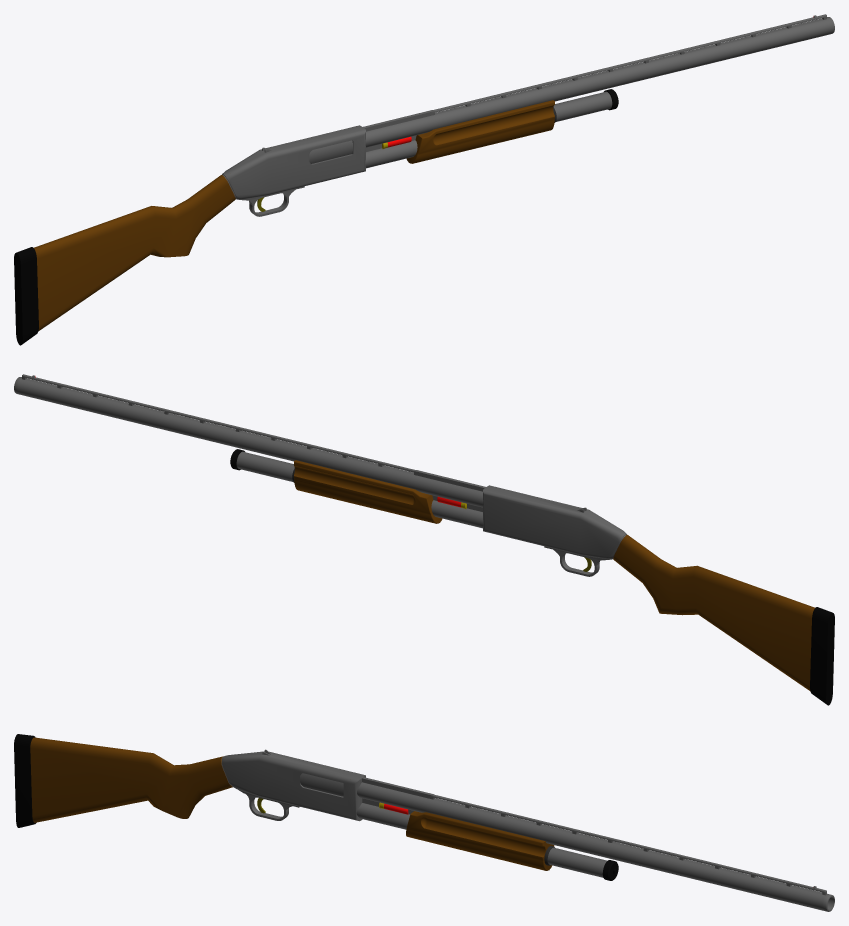
The model's file is MOSSBERG_500_FULL_1.glb.
3 renders of one model, top to bottom at view 1: azimuth 30°, elevation 25°; view 2: azimuth 150°, elevation 25°; view 3: azimuth 330°, elevation 25°, orthographic.
Visible parts, largest first — view 1: Body, Barrel, Pump, Bottom Barrel, Handle; view 2: Body, Barrel, Pump, Bottom Barrel; view 3: Body, Barrel, Pump, Bottom Barrel, Handle, Guard.
Boxes of the visible parts, x1=… form: Body: x1=14, y1=125, x2=365, y2=345; Barrel: x1=363, y1=14, x2=834, y2=147; Pump: x1=406, y1=100, x2=556, y2=163; Bottom Barrel: x1=365, y1=89, x2=618, y2=168; Handle: x1=309, y1=140, x2=352, y2=163; Body: x1=483, y1=485, x2=834, y2=705; Barrel: x1=14, y1=374, x2=485, y2=507; Pump: x1=292, y1=460, x2=442, y2=523; Bottom Barrel: x1=230, y1=449, x2=483, y2=528; Body: x1=14, y1=734, x2=365, y2=827; Barrel: x1=357, y1=777, x2=834, y2=911; Pump: x1=406, y1=811, x2=554, y2=870; Bottom Barrel: x1=356, y1=803, x2=618, y2=880; Handle: x1=300, y1=773, x2=343, y2=796; Guard: x1=246, y1=794, x2=292, y2=820.
Bounding box in the file's own units: 5.76 × 0.9248 × 0.1493.
Materials: 13 (11 with a texture image).
